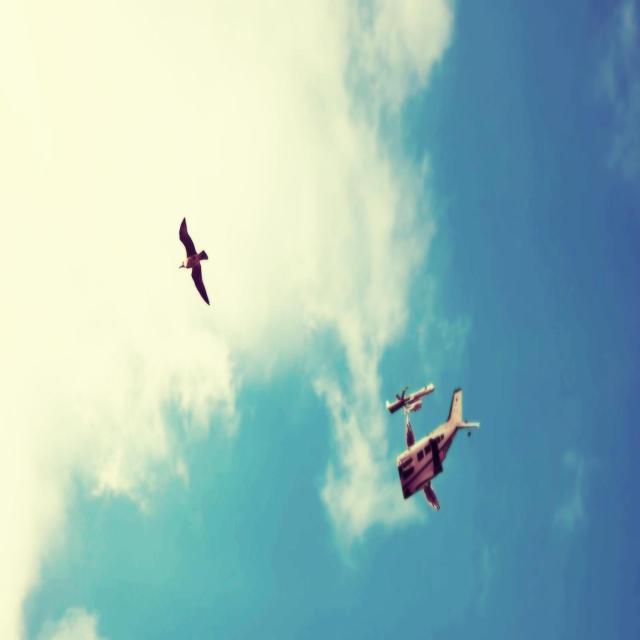airplane: (396, 386, 480, 511), (385, 382, 435, 416)
